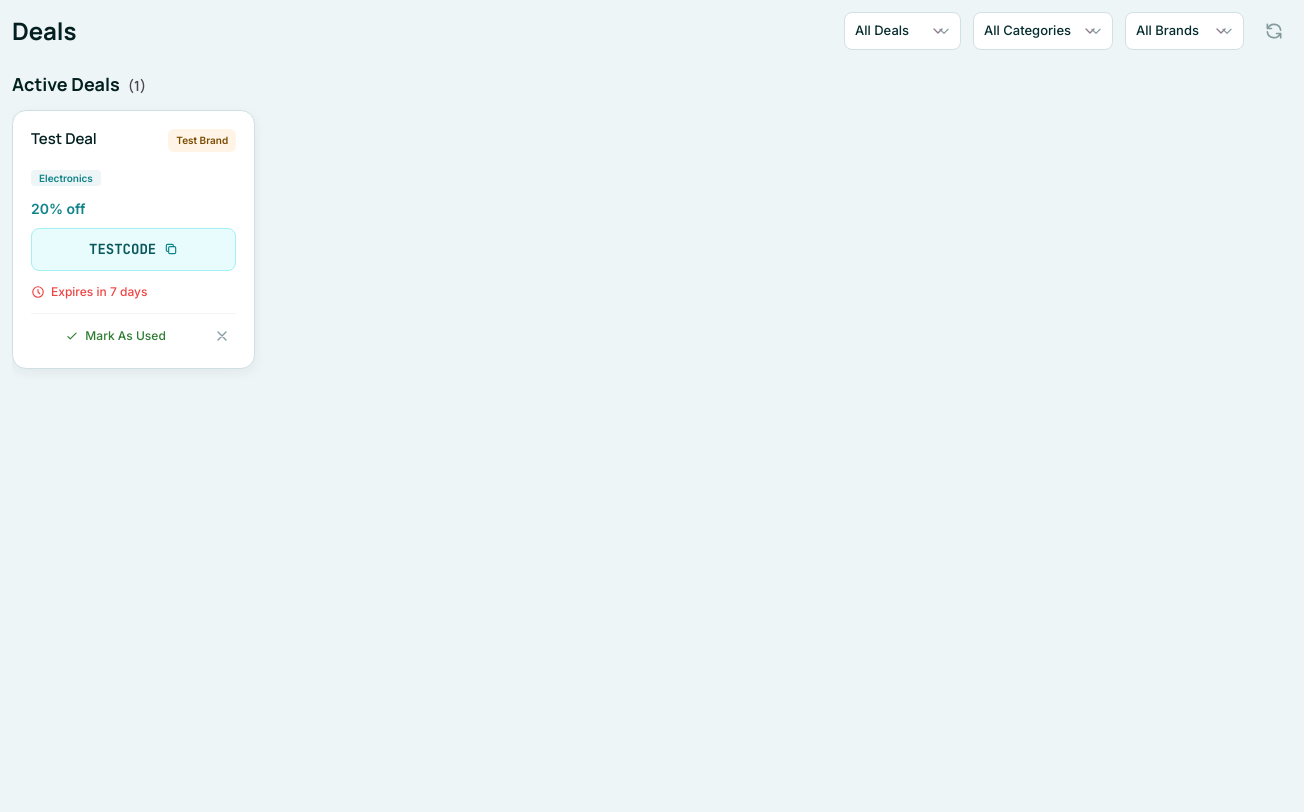
it: Dismiss Feature › should move deal from Active to Dismissed section when dismissed
Expected: the heading "Test Deal" is shown, 31,128 -> 97,149
Expected: the text "Dismissed Deals" is not shown
Click the button named "Dismiss deal".
click(222, 336)  # box 208,322 -> 236,350
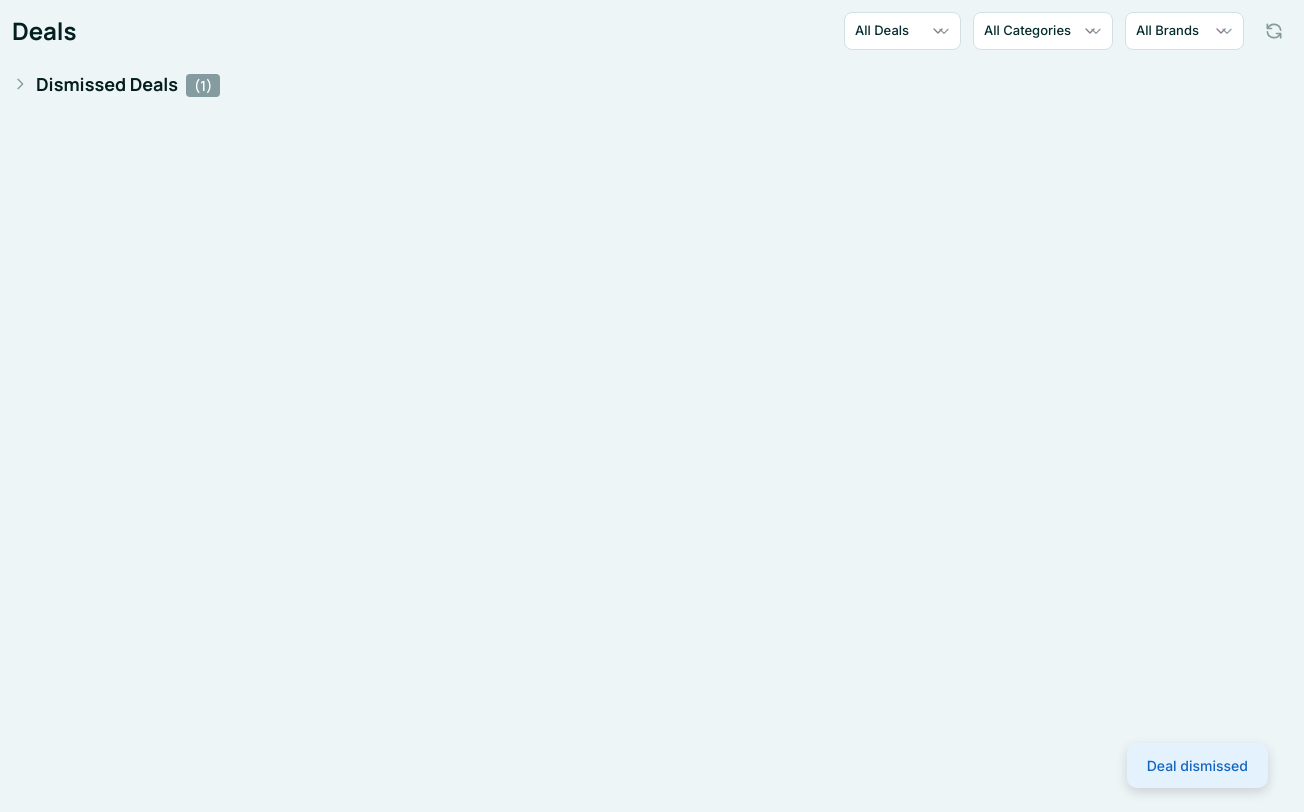
Expected: the heading "Dismissed Deals(1)" is shown, 36,70 -> 220,98
